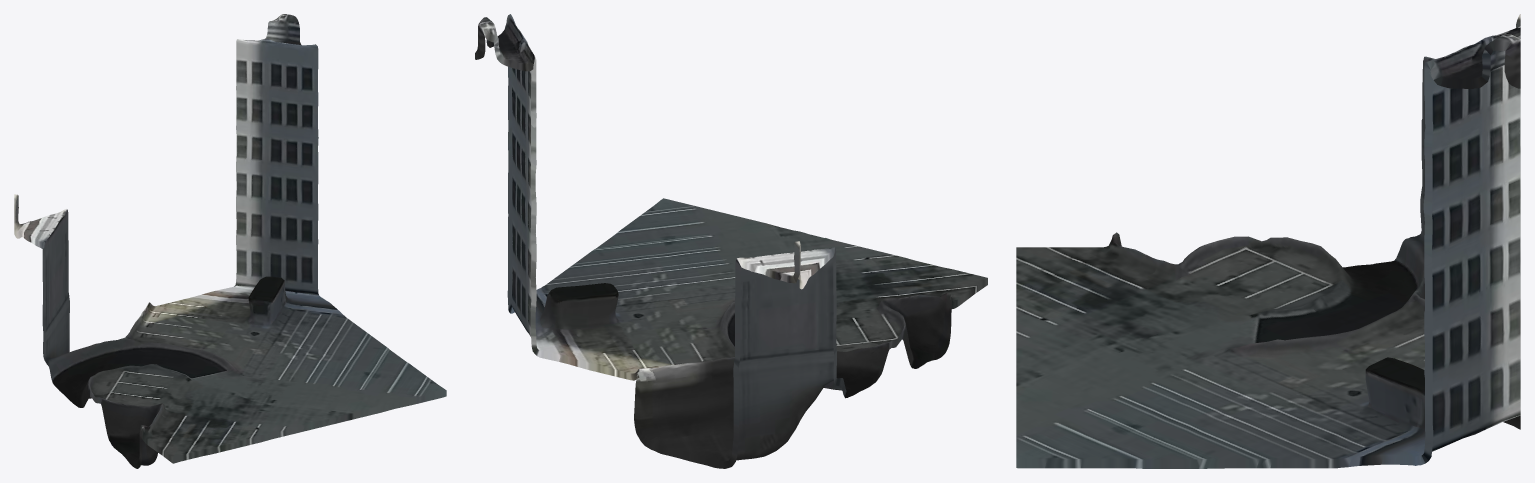
Rendered from z20-167783-405232-h0-yup-uvflip-v3-world.glb.
3 renders of one model, left to right at view 1: azimuth 30°, elevation 25°; view 2: azimuth 150°, elevation 25°; view 3: azimuth 270°, elevation 25°, orthographic. The views are drawn at different scales.
Bounding box in the file's own units: 30.16 × 34.24 × 30.32.
Materials: 1 (1 with a texture image).
